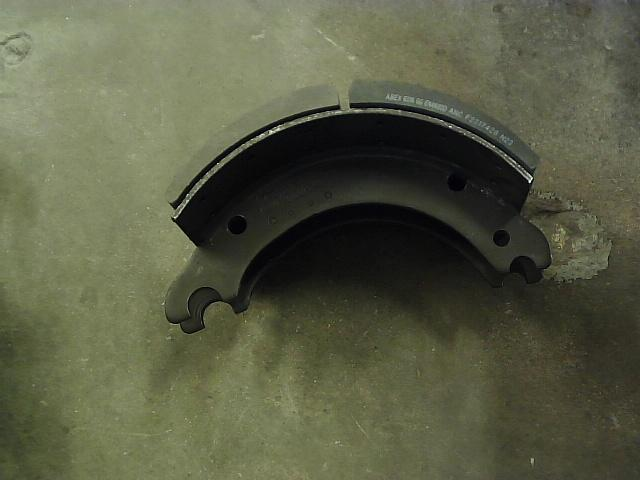brake-shoes: (164, 77, 550, 334)
